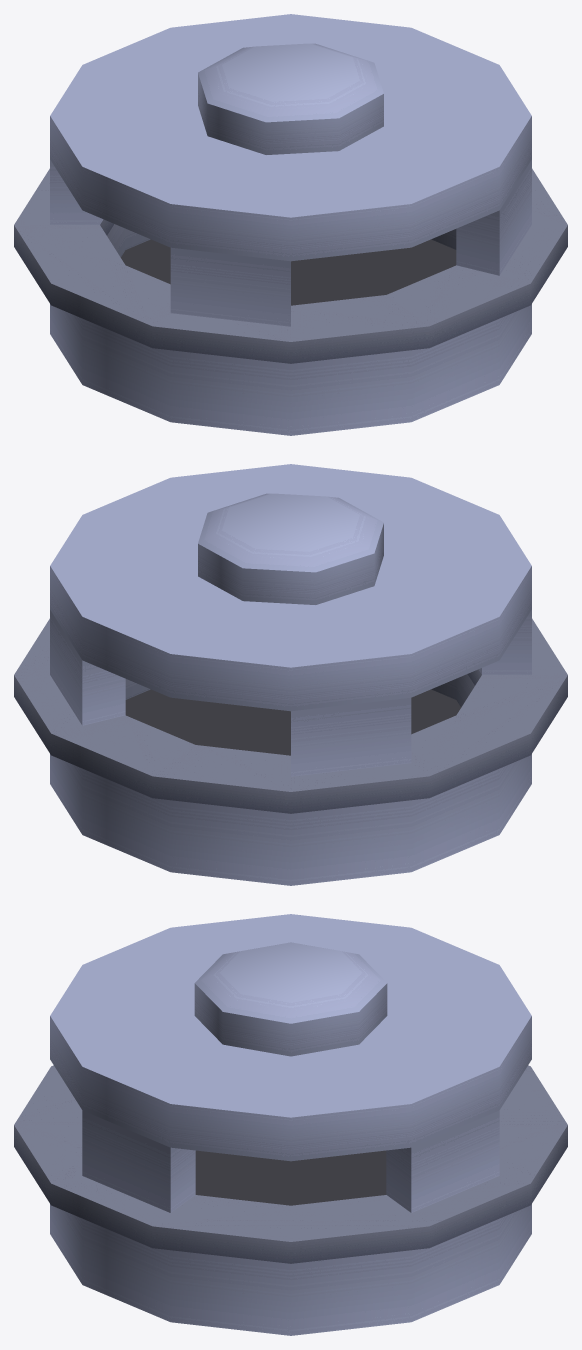
Rendered from tower-round-middle-c.glb.
3 views of the same model, one above another, from view 1: azimuth 30°, elevation 25°; view 2: azimuth 150°, elevation 25°; view 3: azimuth 270°, elevation 25° (orthographic).
Visible parts, largest first — view 1: tower-round-middle-c; view 2: tower-round-middle-c; view 3: tower-round-middle-c.
Part boxes in pixels (<box>): tower-round-middle-c: <box>14,14,567,435</box>; tower-round-middle-c: <box>14,464,567,885</box>; tower-round-middle-c: <box>14,914,567,1335</box>.
Size of the model in its own units: 3.45 by 1.8 by 3.45.
1 material, 1 textured.
